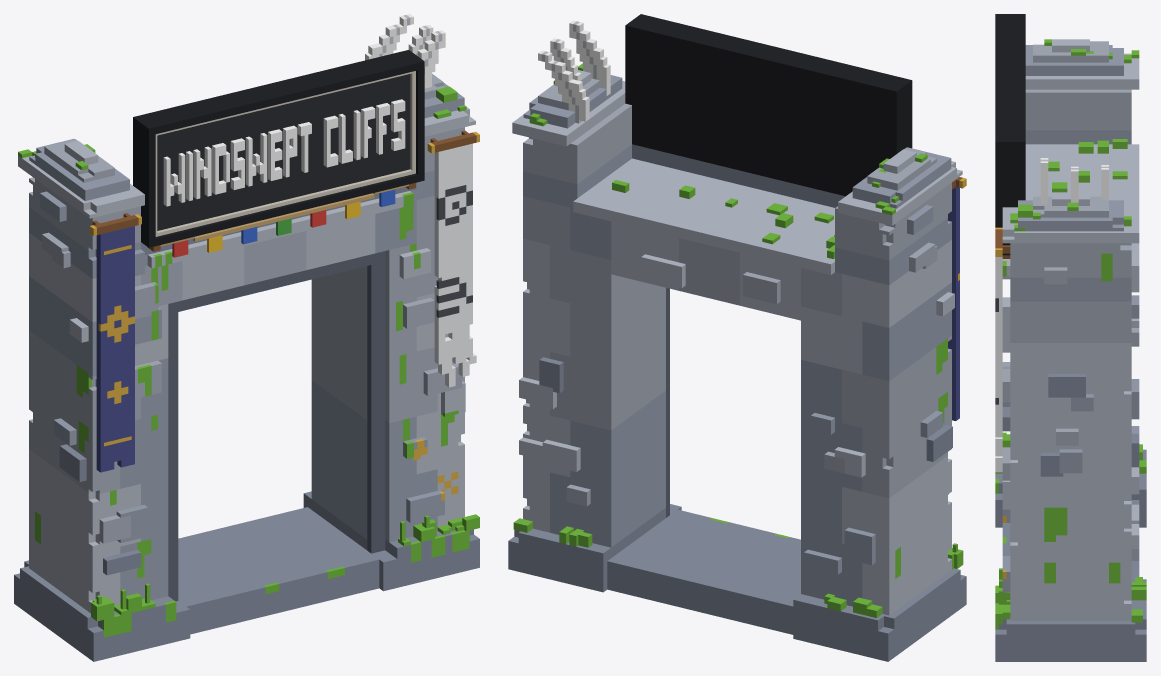
Rendered from Lobby_PortalArch_WindsweptCliffs.glb.
The picture shows the model from 3 angles, left to right: view 1: azimuth 30°, elevation 25°; view 2: azimuth 150°, elevation 25°; view 3: azimuth 270°, elevation 25°; orthographic projection. The views are drawn at different scales.
Visible parts, largest first — view 1: Pillar_L_Stone_Pale, Threshold_Stone_Dark, Sign_Sign_Slate, Pillar_R_Stone_Mid, Pillar_L_Stone_Light, Pillar_L_Stone_Mid, Pillar_R_Stone_Light, Sign_Sign_Frame, Reveal_Stone_Reveal, Sign_Letters_Letters_White, Pillar_L_Stone_Dark, Banner_L_Banner_Cloth (+14 smaller); view 2: Sign_Sign_Frame, Pillar_R_Stone_Mid, Pillar_L_Stone_Pale, Pillar_L_Stone_Light, Lintel_Stone_Pale, Pillar_L_Stone_Mid, Pillar_R_Stone_Light, Threshold_Stone_Dark, Pillar_R_Stone_Pale, Pillar_L_Stone_Dark, Pillar_R_Stone_Dark, Lintel_Stone_Mid (+6 smaller); view 3: Pillar_R_Stone_Pale, Pillar_R_Stone_Mid, Pillar_R_Stone_Dark, Sign_Sign_Frame, Pillar_R_Stone_Light, Pillar_L_Stone_Mid, Lintel_Stone_Pale, Pillar_L_Stone_Light, Moss_Moss, Pillar_L_Stone_Pale, Pillar_R_Moss, Banner_R_Wind_Cloth (+3 smaller).
Boxes of the visible parts, x1,y1,x2,y2 form: Pillar_L_Stone_Pale: (18, 140, 168, 613); Threshold_Stone_Dark: (178, 507, 379, 634); Sign_Sign_Slate: (157, 74, 410, 230); Pillar_R_Stone_Mid: (311, 74, 464, 423); Pillar_L_Stone_Light: (29, 138, 168, 604); Pillar_L_Stone_Mid: (29, 139, 182, 543); Pillar_R_Stone_Light: (311, 83, 464, 542); Sign_Sign_Frame: (133, 50, 424, 247); Reveal_Stone_Reveal: (168, 251, 385, 601); Sign_Letters_Letters_White: (163, 99, 405, 206); Pillar_L_Stone_Dark: (14, 444, 190, 661); Banner_L_Banner_Cloth: (96, 226, 134, 472); Sign_Sign_Frame: (625, 14, 912, 196); Pillar_R_Stone_Mid: (523, 78, 665, 506); Pillar_L_Stone_Pale: (801, 149, 962, 615); Pillar_L_Stone_Light: (801, 147, 951, 606); Lintel_Stone_Pale: (573, 158, 834, 320); Pillar_L_Stone_Mid: (801, 147, 951, 498); Pillar_R_Stone_Light: (523, 75, 665, 547); Threshold_Stone_Dark: (607, 509, 800, 634); Pillar_R_Stone_Pale: (512, 70, 625, 532); Pillar_L_Stone_Dark: (793, 425, 966, 661); Pillar_R_Stone_Dark: (508, 357, 681, 592); Lintel_Stone_Mid: (679, 238, 780, 305); Pillar_R_Stone_Pale: (1002, 193, 1139, 620); Pillar_R_Stone_Mid: (1002, 196, 1139, 560); Pillar_R_Stone_Dark: (995, 374, 1146, 661); Sign_Sign_Frame: (995, 14, 1025, 255); Pillar_R_Stone_Light: (1002, 200, 1131, 592); Pillar_L_Stone_Mid: (1002, 41, 1139, 366); Lintel_Stone_Pale: (1002, 144, 1139, 292); Pillar_L_Stone_Light: (1002, 45, 1139, 433); Moss_Moss: (995, 39, 1146, 624); Pillar_L_Stone_Pale: (1025, 39, 1139, 327); Pillar_R_Moss: (995, 253, 1120, 629); Banner_R_Wind_Cloth: (995, 257, 1002, 472).
Bounding box in the file's own units: 2.8 × 3.6 × 1.
